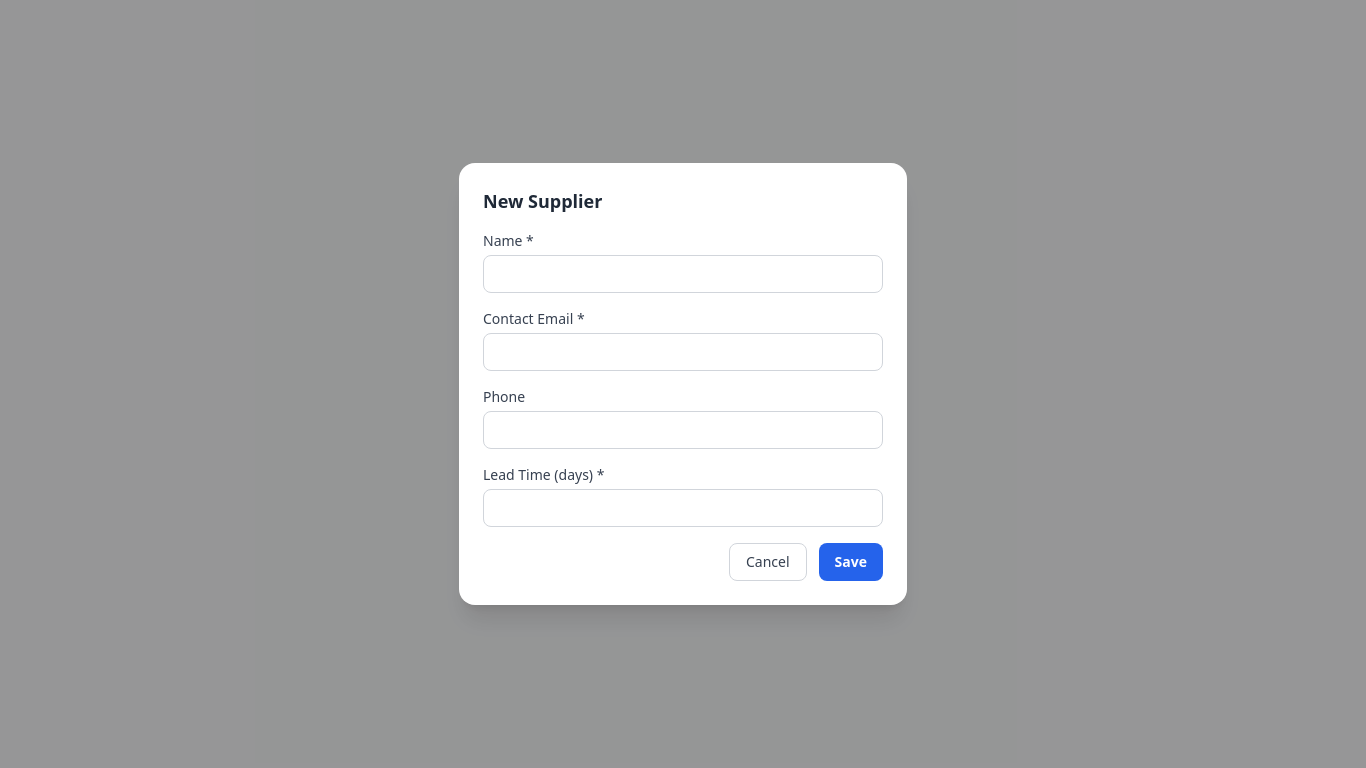
SupplierForm Validation › shows error for invalid email format
Step 1. Type "Acme Corp" into the field labelled "Name *" → (683, 274), box x1=483 y1=255 x2=883 y2=293
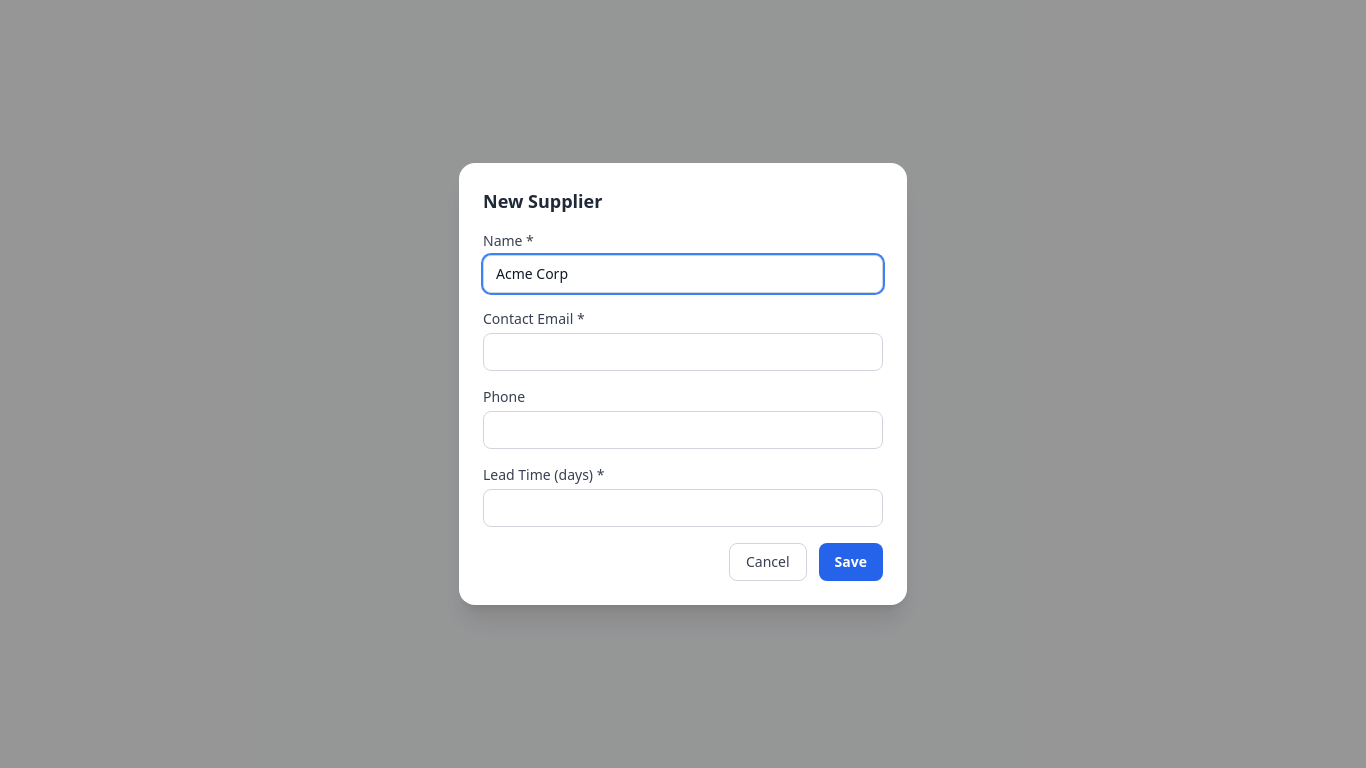
Step 2. Type "bademail" into the field labelled "Contact Email *" → (683, 352), box x1=483 y1=333 x2=883 y2=371
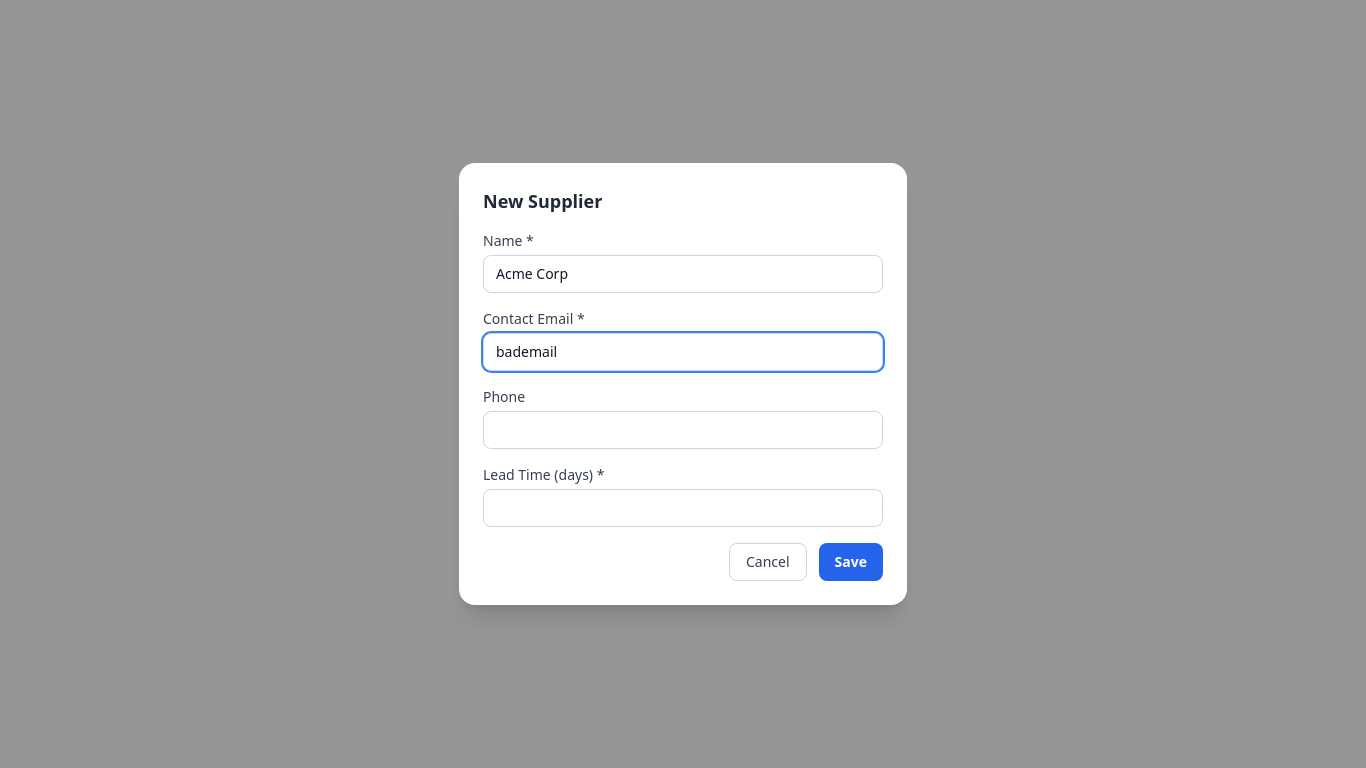
Step 3. Type "5" into the number field labelled "Lead Time (days) *" → (683, 508), box x1=483 y1=489 x2=883 y2=527
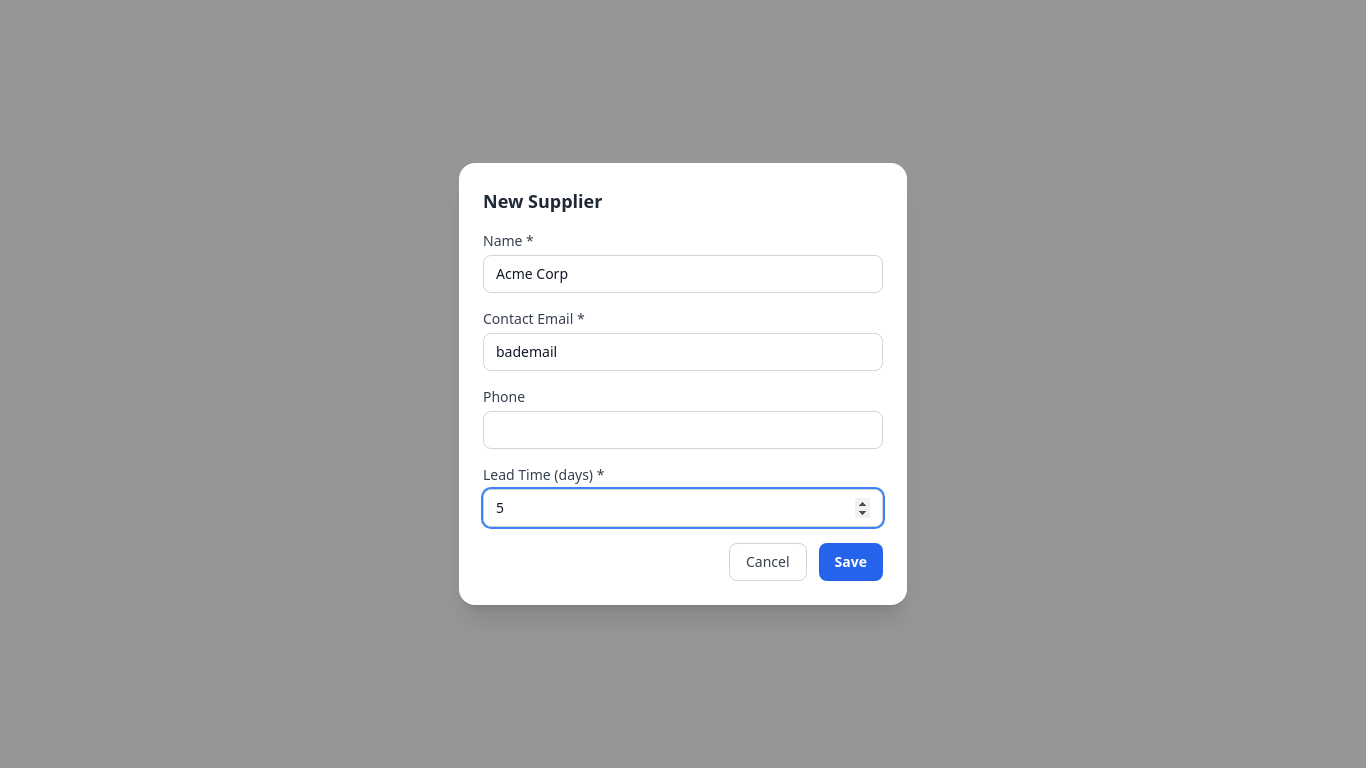
Step 4. Click the button "Save" → (851, 562), box x1=819 y1=543 x2=883 y2=581
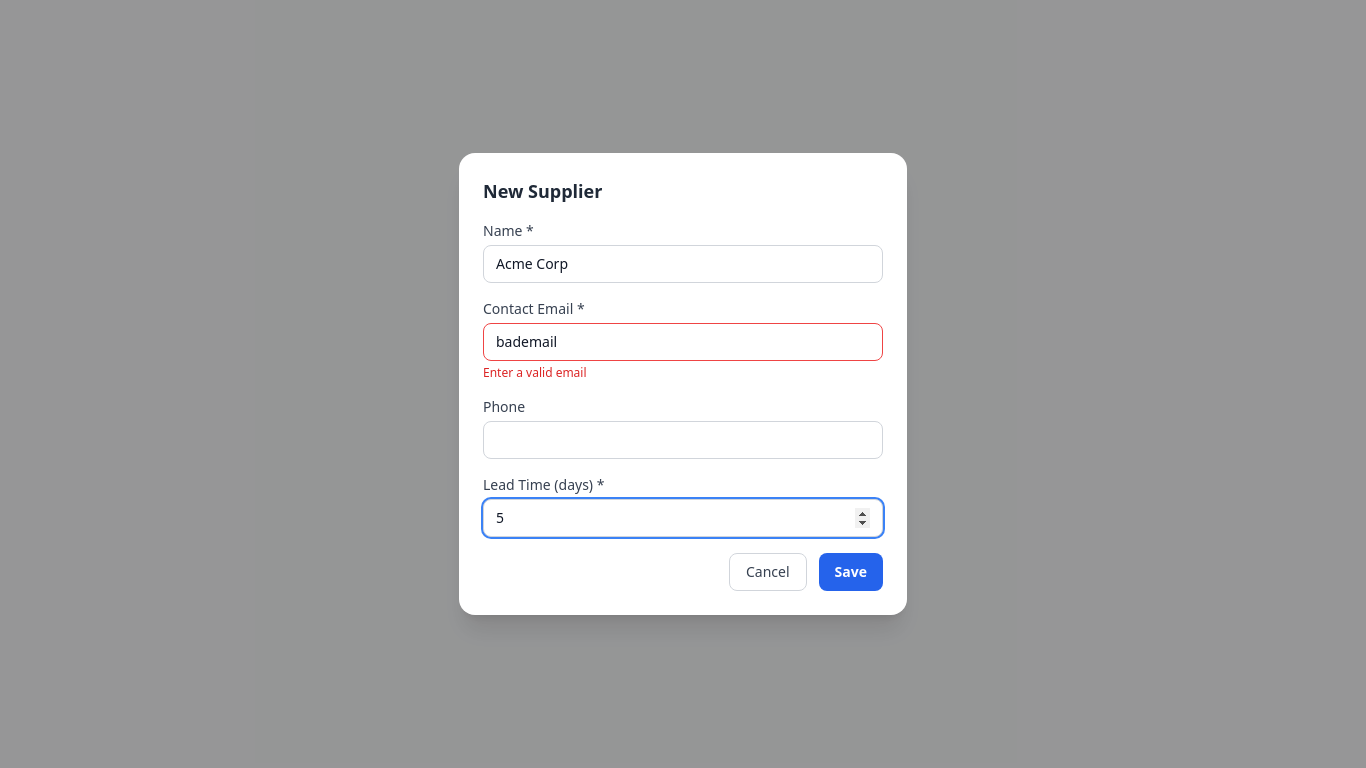
Check: the text "Enter a valid email" is shown, box x1=483 y1=364 x2=587 y2=381
